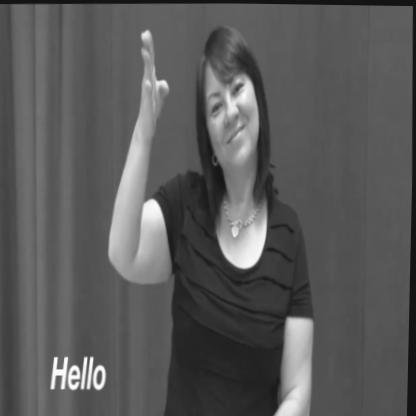Hello: (102, 11, 324, 416)
